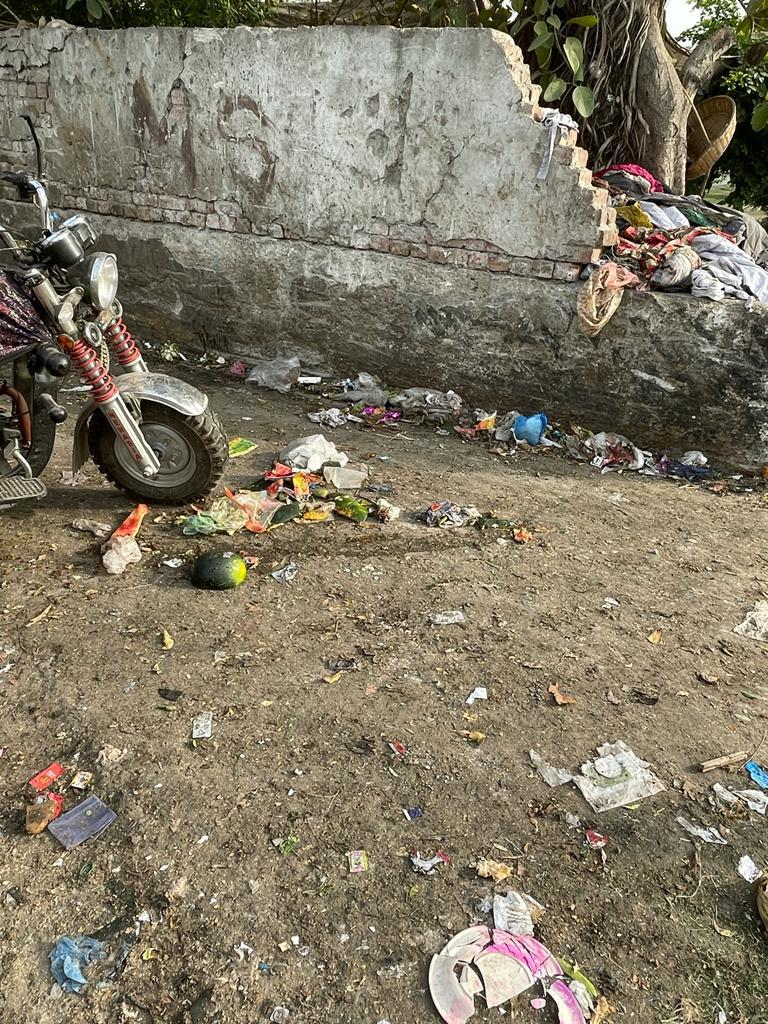garbage: (85, 344, 719, 592)
